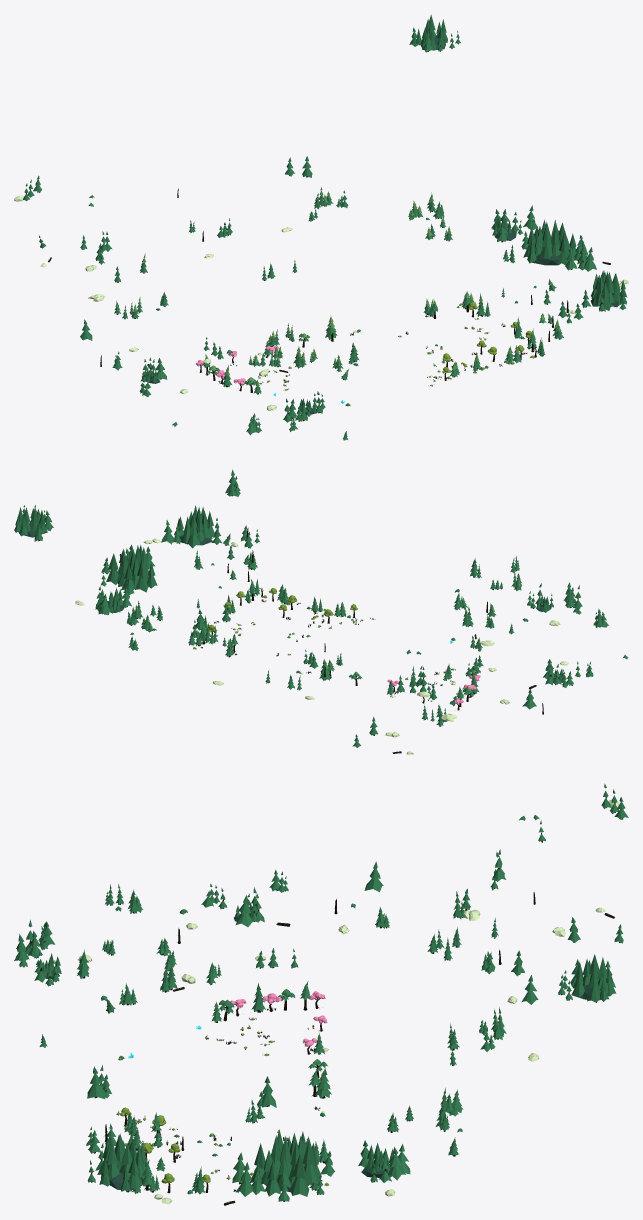
Rendered from LOBBY_09_VEGETATION_e4dec7.fbx.
3 renders of one model, top to bottom at view 1: azimuth 30°, elevation 25°; view 2: azimuth 150°, elevation 25°; view 3: azimuth 270°, elevation 25°, orthographic. The views are drawn at different scales.
Visible parts, largest first — view 1: VEG_Leste_Norte__Leaf_Pine, VEG_Leste_Sul__Leaf_Pine, VEG_Vale_Oeste__Leaf_Pine, VEG_Nordeste__Leaf_Pine, VEG_Vale_Leste__Leaf_Pine, VEG_Norte_Leste__Leaf_Pine, VEG_Noroeste__Leaf_Pine, VEG_Oeste_Norte__Leaf_Pine, VEG_Vale_Leste__Leaf_Broad; view 2: VEG_Leste_Norte__Leaf_Pine, VEG_Leste_Sul__Leaf_Pine, VEG_Vale_Oeste__Leaf_Pine, VEG_Nordeste__Leaf_Pine, VEG_Vale_Leste__Leaf_Pine, VEG_Norte_Leste__Leaf_Pine, VEG_Noroeste__Leaf_Pine, VEG_Oeste_Norte__Leaf_Pine, VEG_Queda_Sul_Oeste__Leaf_Pine, VEG_Vale_Leste__Leaf_Broad, VEG_Oeste_Sul__Leaf_Pine; view 3: VEG_Leste_Norte__Leaf_Pine, VEG_Leste_Sul__Leaf_Pine, VEG_Vale_Oeste__Leaf_Pine, VEG_Nordeste__Leaf_Pine, VEG_Noroeste__Leaf_Pine, VEG_Oeste_Norte__Leaf_Pine, VEG_Norte_Leste__Leaf_Pine, VEG_Queda_Sul_Oeste__Leaf_Pine, VEG_Vale_Leste__Leaf_Pine, VEG_Oeste_Sul__Leaf_Pine, VEG_Vale_Leste__Leaf_Broad.
Boxes of the visible parts, x1,y1,x2,y2 form: VEG_Leste_Norte__Leaf_Pine: (491,205,607,303); VEG_Leste_Sul__Leaf_Pine: (539,247,627,339); VEG_Vale_Oeste__Leaf_Pine: (203,325,349,406); VEG_Nordeste__Leaf_Pine: (409,14,460,236); VEG_Vale_Leste__Leaf_Pine: (357,297,545,386); VEG_Norte_Leste__Leaf_Pine: (285,156,452,272); VEG_Noroeste__Leaf_Pine: (23,175,147,319); VEG_Oeste_Norte__Leaf_Pine: (80,292,168,396); VEG_Vale_Leste__Leaf_Broad: (399,302,534,386); VEG_Leste_Norte__Leaf_Pine: (95,520,221,614); VEG_Leste_Sul__Leaf_Pine: (172,469,259,579); VEG_Vale_Oeste__Leaf_Pine: (319,556,521,699); VEG_Nordeste__Leaf_Pine: (14,505,139,648); VEG_Vale_Leste__Leaf_Pine: (188,580,363,673); VEG_Norte_Leste__Leaf_Pine: (130,601,270,683); VEG_Noroeste__Leaf_Pine: (352,649,457,752); VEG_Oeste_Norte__Leaf_Pine: (443,659,593,709); VEG_Queda_Sul_Oeste__Leaf_Pine: (454,558,570,633); VEG_Vale_Leste__Leaf_Broad: (193,588,374,655); VEG_Oeste_Sul__Leaf_Pine: (523,585,627,659); VEG_Leste_Norte__Leaf_Pine: (197,1076,410,1203); VEG_Leste_Sul__Leaf_Pine: (86,1065,165,1191); VEG_Vale_Oeste__Leaf_Pine: (102,885,331,1098); VEG_Nordeste__Leaf_Pine: (435,954,616,1155); VEG_Noroeste__Leaf_Pine: (427,783,628,960); VEG_Oeste_Norte__Leaf_Pine: (201,861,389,928); VEG_Norte_Leste__Leaf_Pine: (387,950,538,1156); VEG_Queda_Sul_Oeste__Leaf_Pine: (14,934,107,1047); VEG_Vale_Leste__Leaf_Pine: (116,1112,327,1194); VEG_Oeste_Sul__Leaf_Pine: (16,906,187,966); VEG_Vale_Leste__Leaf_Broad: (117,1107,329,1185).
Size of the model in its own units: 449 by 185 by 363.
Materials: 10 (3 with a texture image).
